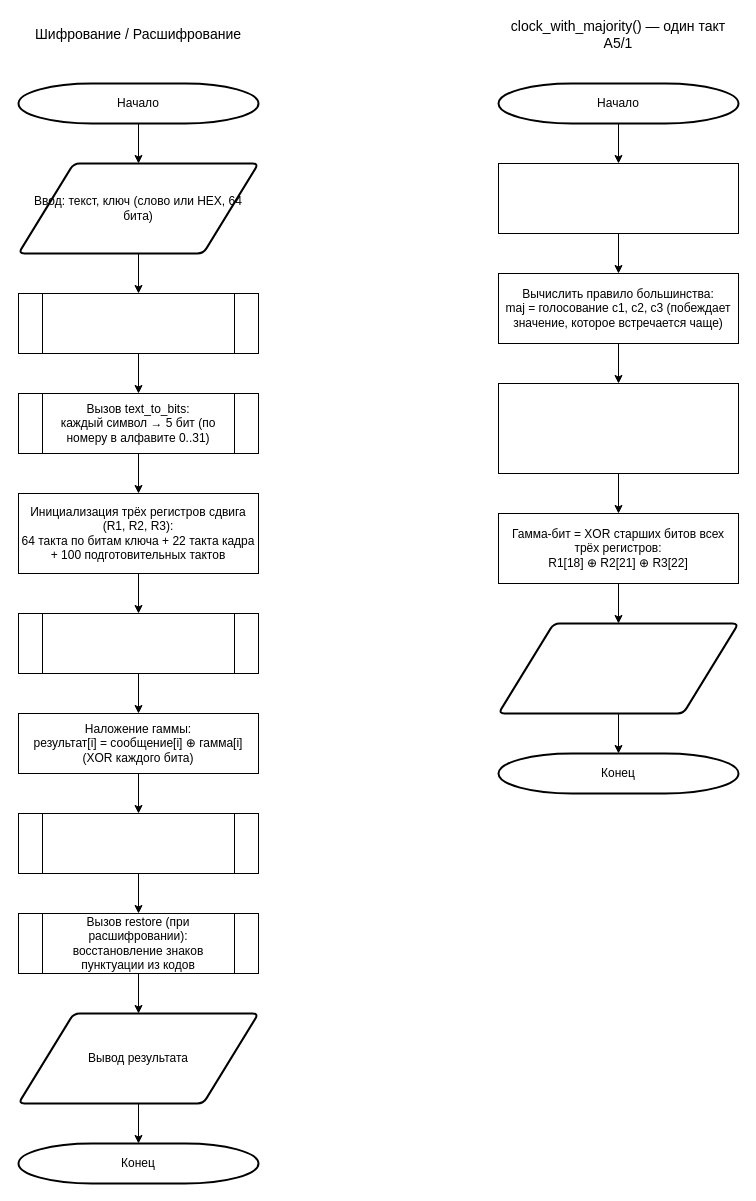
This 756x1201 diagram has some shape labels left out. Here are the shapes that lost their labels. From the top down, the centre of each, then its label:
point (618, 198): Считать биты тактирования каждого регистра: c1 = R1[8], c2 = R2[10], c3 = R3[10]
point (138, 323): Вызов replace: замена знаков пунктуации буквенными кодами
point (618, 428): Сдвинуть только те регистры, чей бит тактирования совпадает с maj
point (138, 643): Генерация n бит гаммы: каждый такт управляется правилом большинства (majority)
point (618, 668): Возврат: 1 бит гаммы
point (138, 843): Вызов bits_to_text: группы по 5 бит → буквы алфавита
